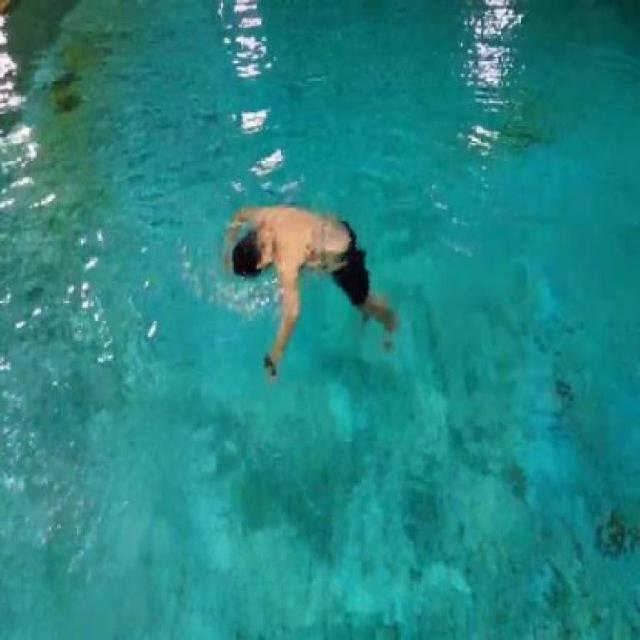Out of Water: (218, 202, 401, 355)
